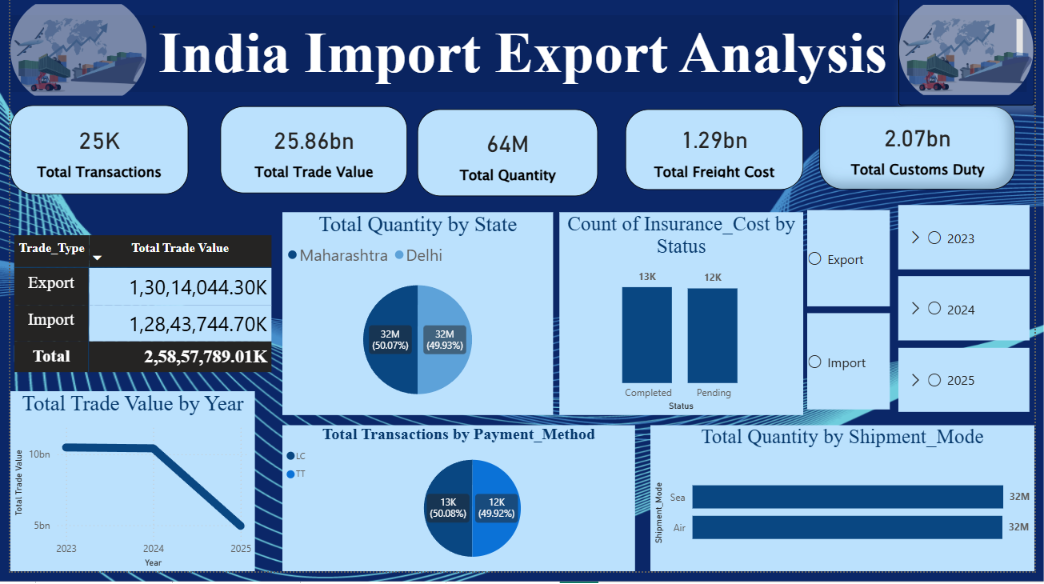

This screenshot's page, from the dashboard's own definition file:
{"tool":"powerbi","page":{"name":"Dashboard","canvas":[1280,720],"ordinal":0},"visuals":[{"type":"card","fields":{"Values":["Companies.Total Customs Duty"]},"box":[1011,139.3,245.1,103.7],"z":0},{"type":"card","fields":{"Values":["Companies.Total Transactions"]},"box":[0,137.2,222.1,111],"z":1000},{"type":"card","fields":{"Values":["Companies.Total Trade Value"]},"box":[261.9,139.3,233.6,109],"z":2000},{"type":"card","fields":{"Values":["Companies.Total Quantity"]},"box":[509.2,142.5,225.2,109],"z":3000},{"type":"card","fields":{"Values":["Companies.Total Freight Cost"]},"box":[769,142.5,222.1,100.6],"z":4000},{"type":"lineChart","fields":{"Category":["Trade_Transactions_25000.Trade_Date.Variation.Date Hierarchy.Year","Trade_Transactions_25000.Trade_Date.Variation.Date Hierarchy.Quarter","Trade_Transactions_25000.Trade_Date.Variation.Date Hierarchy.Month","Trade_Transactions_25000.Trade_Date.Variation.Date Hierarchy.Day"],"Y":["Companies.Total Trade Value"]},"box":[0,495.5,305.9,225.2],"z":5000},{"type":"pivotTable","fields":{"Rows":["Trade_Transactions_25000.Trade_Type"],"Values":["Companies.Total Trade Value"]},"box":[0,279.7,339.4,215.8],"z":6000},{"type":"pieChart","fields":{"Category":["Ports.State"],"Y":["Companies.Total Quantity"]},"box":[339.4,271.3,338.4,253.5],"z":7000},{"type":"pieChart","fields":{"Category":["Trade_Transactions_25000.Payment_Method"],"Y":["Companies.Total Transactions"]},"box":[339.4,537.4,441.1,186.5],"z":8000},{"type":"barChart","fields":{"Category":["Trade_Transactions_25000.Shipment_Mode"],"Y":["Companies.Total Quantity"]},"box":[800.4,537.4,479.8,183.3],"z":9000},{"type":"columnChart","fields":{"Category":["Trade_Transactions_25000.Status"],"Y":["CountNonNull(Trade_Transactions_25000.Insurance_Cost)"]},"box":[686.2,271.3,304.9,253.5],"z":10000},{"type":"listSlicer","fields":{"Values":["Trade_Transactions_25000.Trade_Type"]},"box":[991.1,248.3,113.1,289.1],"z":11000},{"type":"listSlicer","fields":{"Values":["Trade_Transactions_25000.Trade_Date.Variation.Date Hierarchy.Year","Trade_Transactions_25000.Trade_Date.Variation.Date Hierarchy.Quarter","Trade_Transactions_25000.Trade_Date.Variation.Date Hierarchy.Month","Trade_Transactions_25000.Trade_Date.Variation.Date Hierarchy.Day"]},"box":[1105.3,243.1,175,299.6],"z":12000},{"type":"textbox","box":[0,25.1,1270.8,96.4],"z":13000},{"type":"image","box":[0,0,170,137.5],"z":14000},{"type":"image","box":[1110,0,170,137.5],"z":15000}]}

Visuals, with their boxes in screenshot pixels (x1, y1, x2, y2), scaled from the page's 1280x720 canvas onto the 1044x584 screenshot:
card - Companies.Total Customs Duty: x1=825, y1=113, x2=1025, y2=197
card - Companies.Total Transactions: x1=0, y1=111, x2=181, y2=201
card - Companies.Total Trade Value: x1=214, y1=113, x2=404, y2=201
card - Companies.Total Quantity: x1=415, y1=116, x2=599, y2=204
card - Companies.Total Freight Cost: x1=627, y1=116, x2=808, y2=197
lineChart - Trade_Transactions_25000.Trade_Date.Variation.Date Hierarchy.Year x Trade_Transactions_25000.Trade_Date.Variation.Date Hierarchy.Quarter: x1=0, y1=402, x2=249, y2=583
pivotTable - Trade_Transactions_25000.Trade_Type x Companies.Total Trade Value: x1=0, y1=227, x2=277, y2=402
pieChart - Ports.State x Companies.Total Quantity: x1=277, y1=220, x2=553, y2=426
pieChart - Trade_Transactions_25000.Payment_Method x Companies.Total Transactions: x1=277, y1=436, x2=637, y2=583
barChart - Trade_Transactions_25000.Shipment_Mode x Companies.Total Quantity: x1=653, y1=436, x2=1043, y2=583
columnChart - Trade_Transactions_25000.Status x CountNonNull(Trade_Transactions_25000.Insurance_Cost): x1=560, y1=220, x2=808, y2=426
listSlicer - Trade_Transactions_25000.Trade_Type: x1=808, y1=201, x2=901, y2=436
listSlicer - Trade_Transactions_25000.Trade_Date.Variation.Date Hierarchy.Year x Trade_Transactions_25000.Trade_Date.Variation.Date Hierarchy.Quarter: x1=902, y1=197, x2=1043, y2=440
textbox: x1=0, y1=20, x2=1036, y2=99
image: x1=0, y1=0, x2=139, y2=112
image: x1=905, y1=0, x2=1043, y2=112
